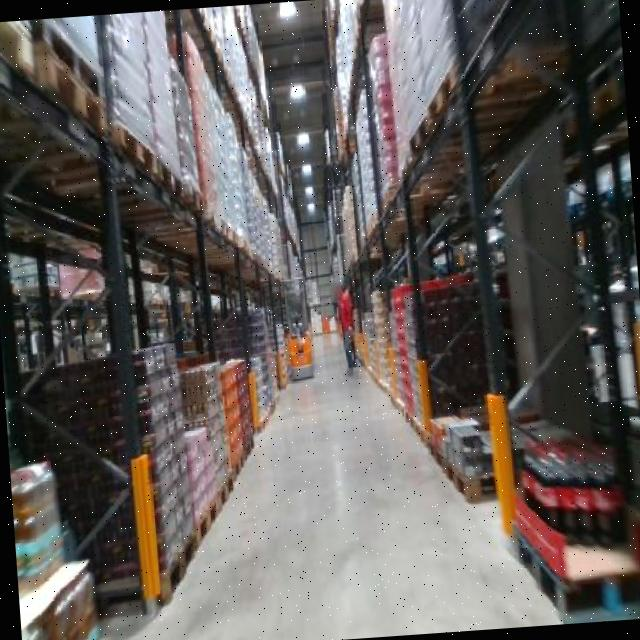pallet: (83, 520, 207, 622), (433, 448, 499, 511), (184, 488, 233, 550), (206, 464, 241, 522)
